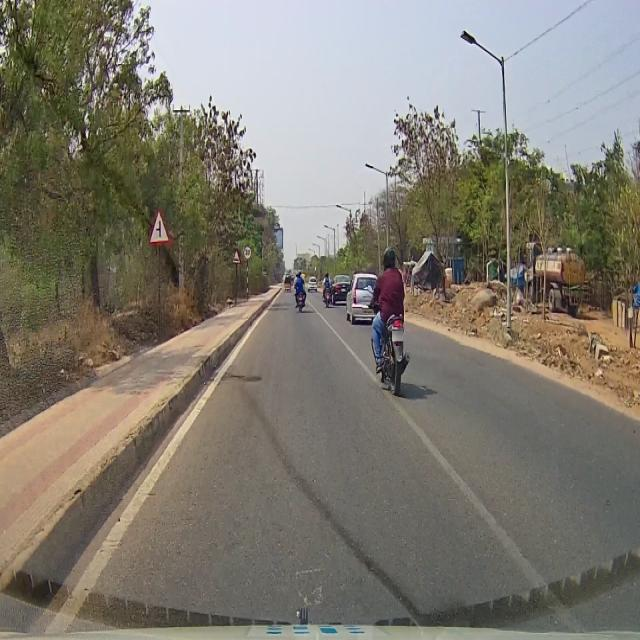car ahead at: (370, 308, 416, 400)
